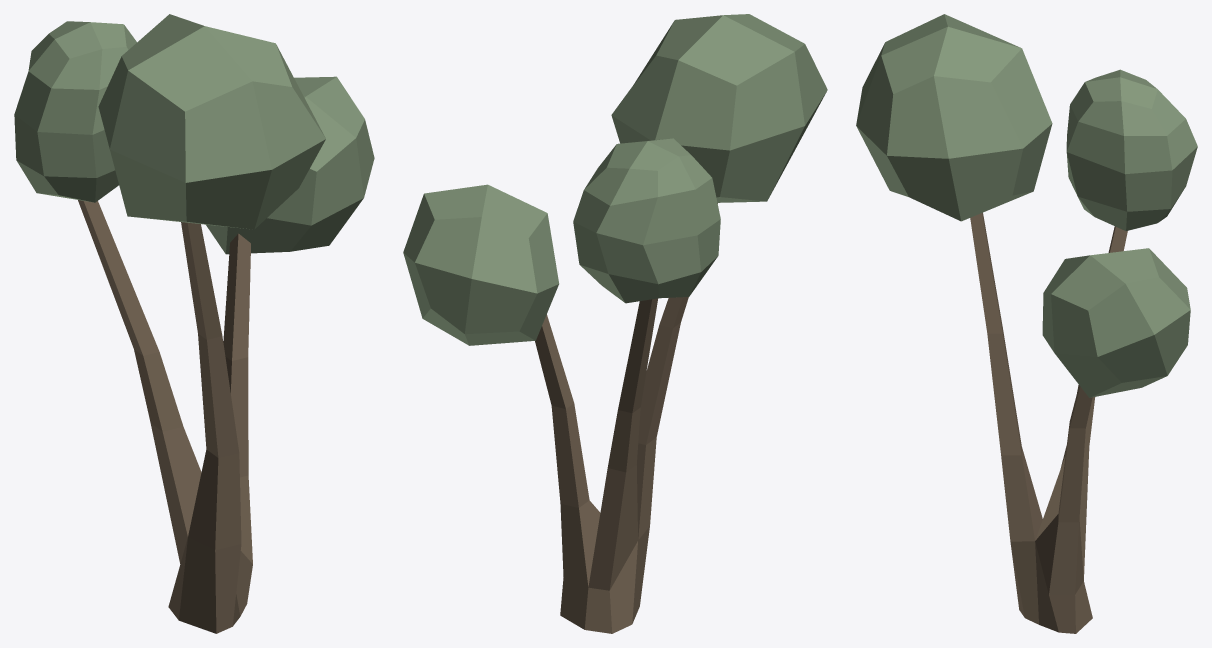
Rendered from ArbusteBlocking3.fbx.
3 renders of one model, left to right at view 1: azimuth 30°, elevation 25°; view 2: azimuth 150°, elevation 25°; view 3: azimuth 270°, elevation 25°, orthographic. The views are drawn at different scales.
Visible parts, largest first — view 1: Shrub3; view 2: Shrub3; view 3: Shrub3.
Part boxes in pixels (box(x1,y1,x2,y2)): Shrub3: box(14, 14, 374, 633); Shrub3: box(403, 14, 827, 633); Shrub3: box(856, 14, 1197, 633).
Bounding box in the file's own units: 440 × 781 × 431.
